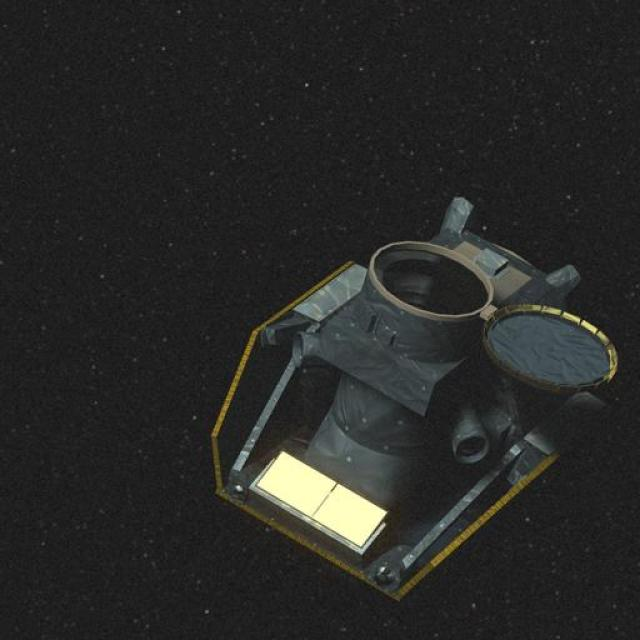cheops: (202, 188, 612, 620)
